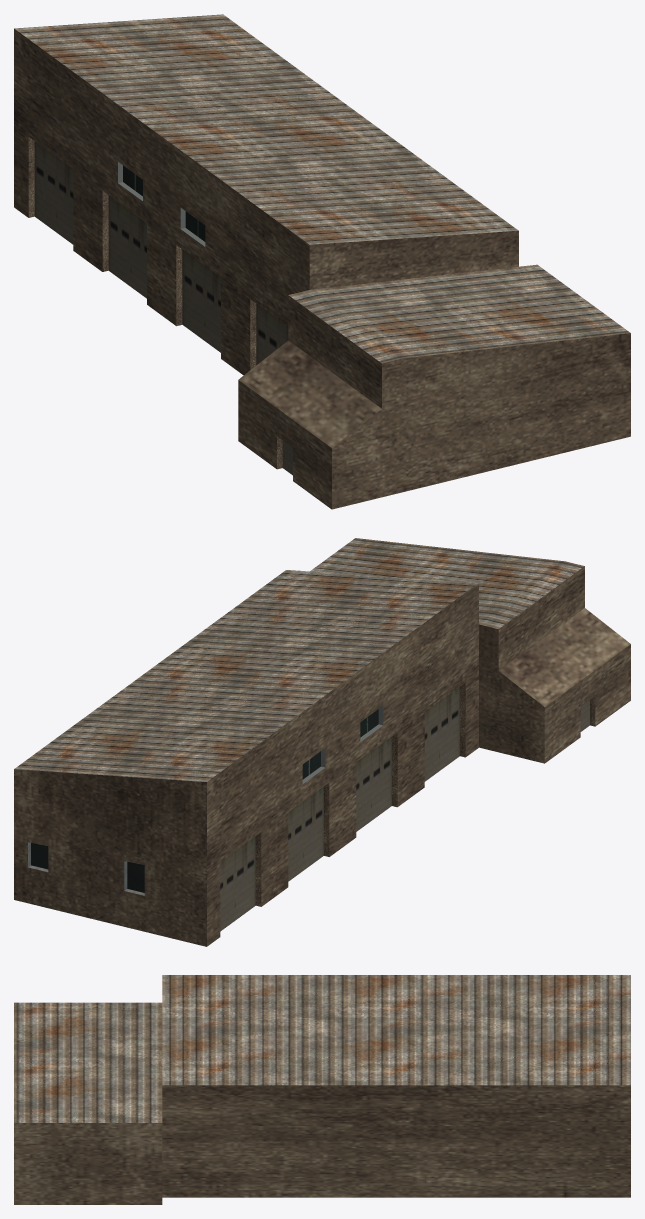
The model's file is dom better.fbx.
The picture shows the model from 3 angles, top to bottom: view 1: azimuth 30°, elevation 25°; view 2: azimuth 150°, elevation 25°; view 3: azimuth 270°, elevation 25°; orthographic projection. The views are drawn at different scales.
Parts seen in each view (by area): view 1: Cube.001; view 2: Cube.001; view 3: Cube.001.
Boxes of the visible parts, x1,y1,x2,y2 form: Cube.001: (14,14,630,509); Cube.001: (14,538,630,946); Cube.001: (14,975,630,1204).
Size of the model in its own units: 3042 by 1739 by 6855.
Materials: 5 (5 with a texture image).
